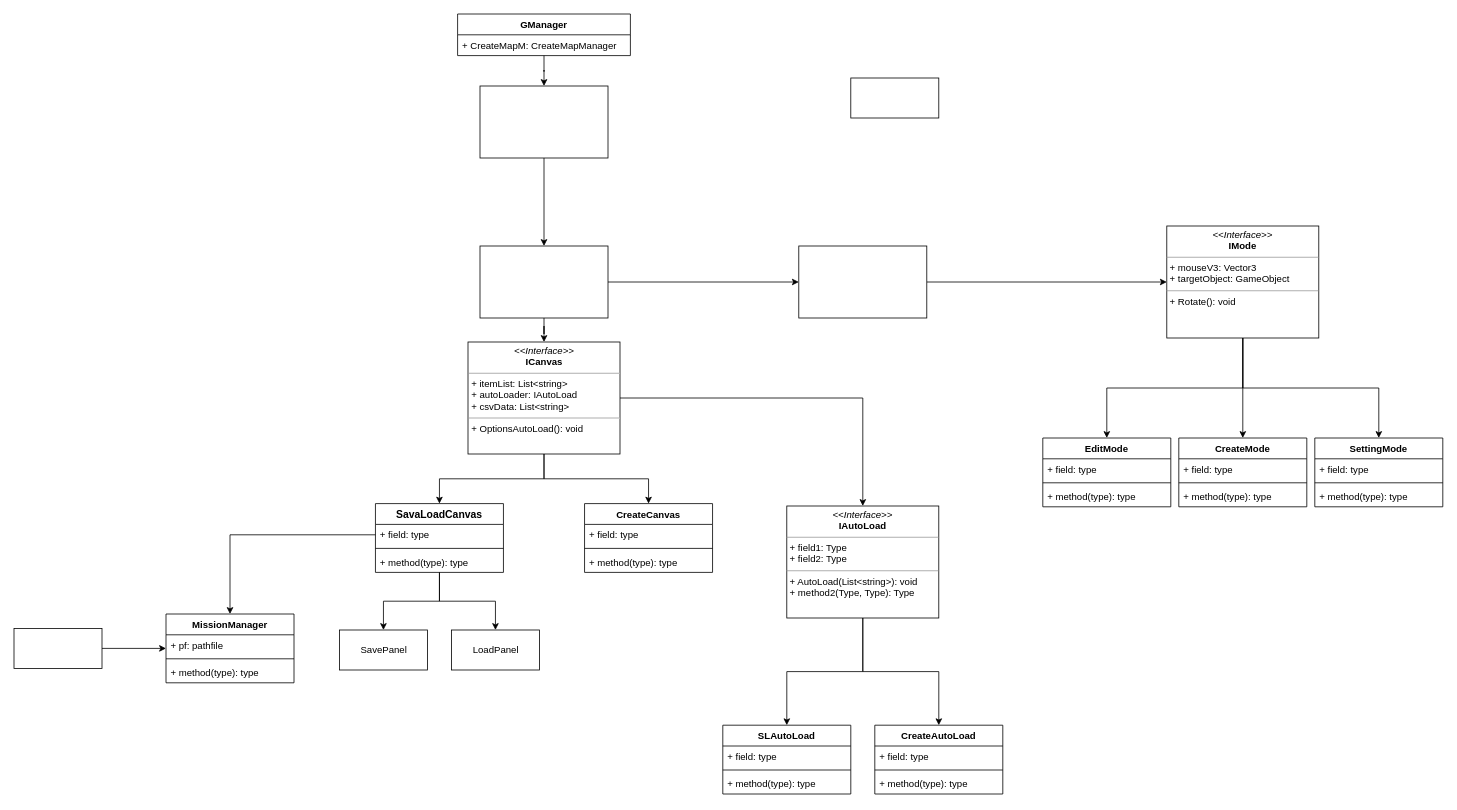
Image size: 1457x810. Some labels were removed from this diagram. Here are the shapes that lost their labels. From the top down, the centre of each, then its label:
At (x=894, y=97): "ObjData".
At (x=543, y=121): "CreateMapManager + field: Type + method(): Type".
At (x=543, y=281): "UIManager + canvas: ICanvas + method(): Type".
At (x=862, y=281): "ModeManager + mode: IMode + method(): Type".
At (x=57, y=648): "LSfile - pathfile".
